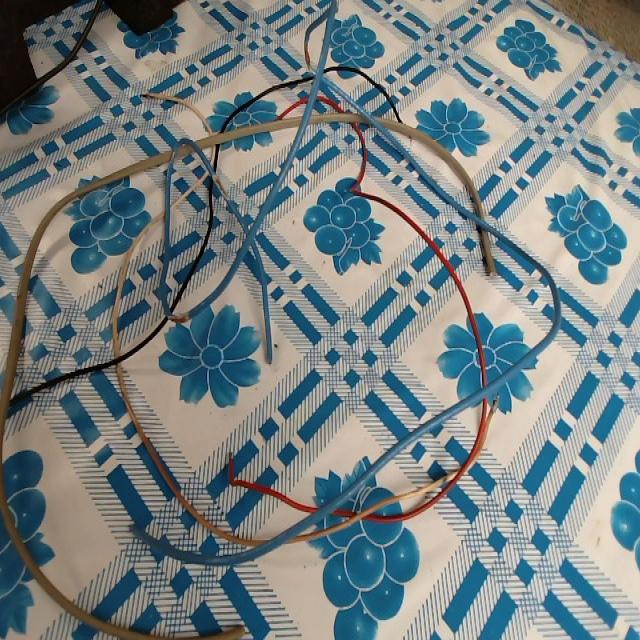-: (206, 168, 232, 203), (300, 36, 315, 80), (163, 308, 191, 329), (165, 144, 178, 169)
